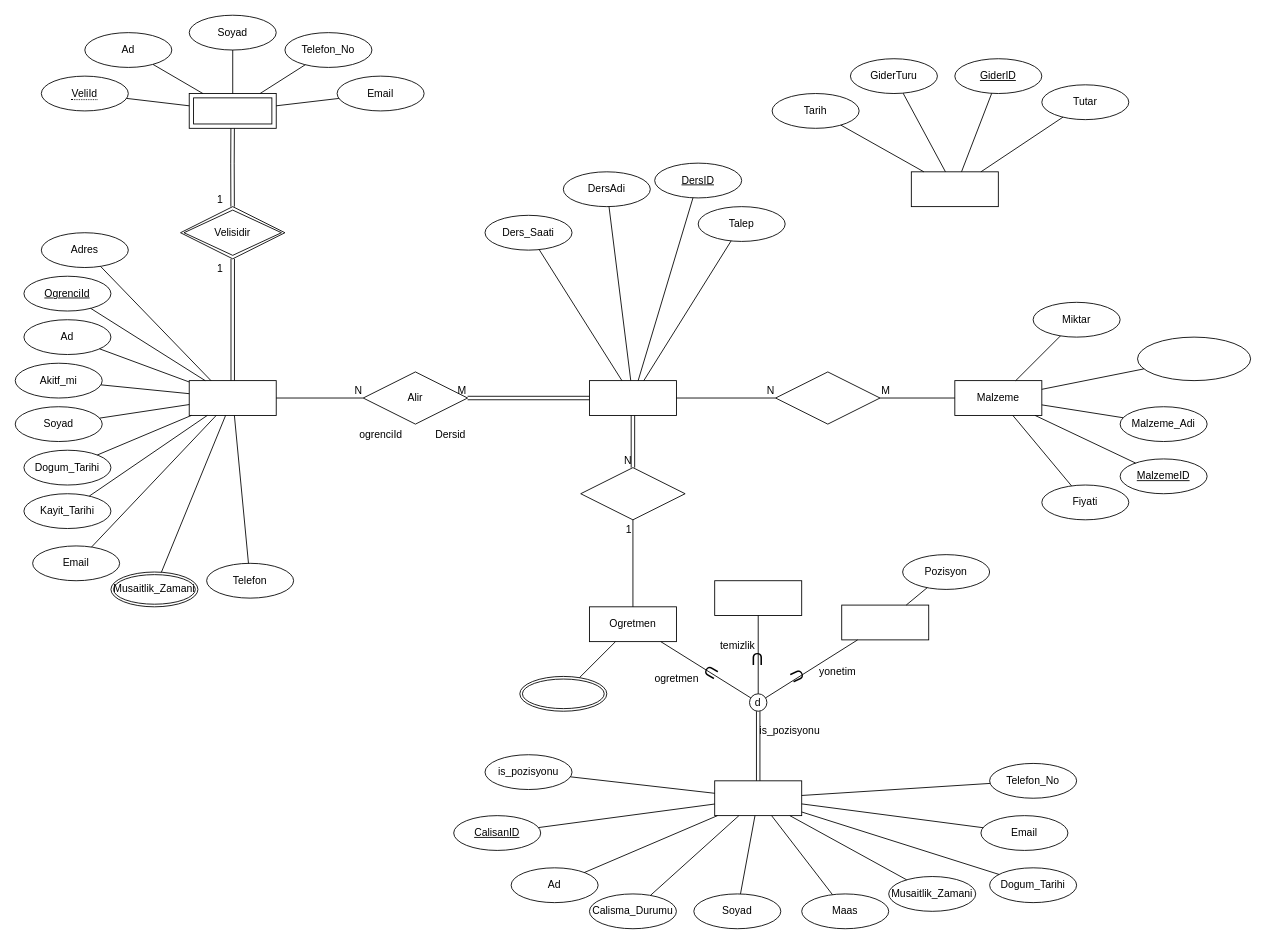
Some shapes in this 1266 by 944 pixel diagram are drawn without their labels. The box of each missing label's shape, as (x1, y1, x2, y2) in pixels:
Calisan: (714, 780, 802, 816)
Ders: (589, 380, 676, 415)
Gider: (910, 171, 998, 207)
Idari Personel: (841, 604, 929, 640)
Kullanir: (775, 371, 880, 424)
Minimum_Stok_Miktari: (1137, 336, 1251, 381)
MusatilikZamani: (519, 676, 607, 711)
Ogrenci: (188, 380, 276, 415)
Temizlik Gorevlisi: (714, 580, 802, 616)
Veli: (188, 93, 276, 128)
Verir: (580, 467, 685, 520)
